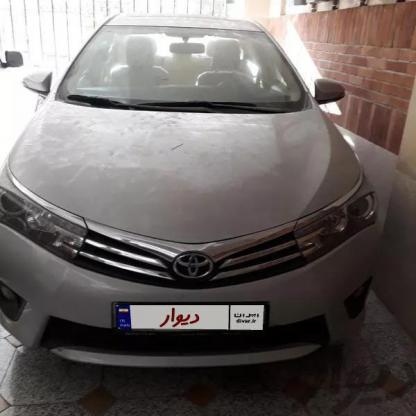Car: (4, 13, 374, 382)
